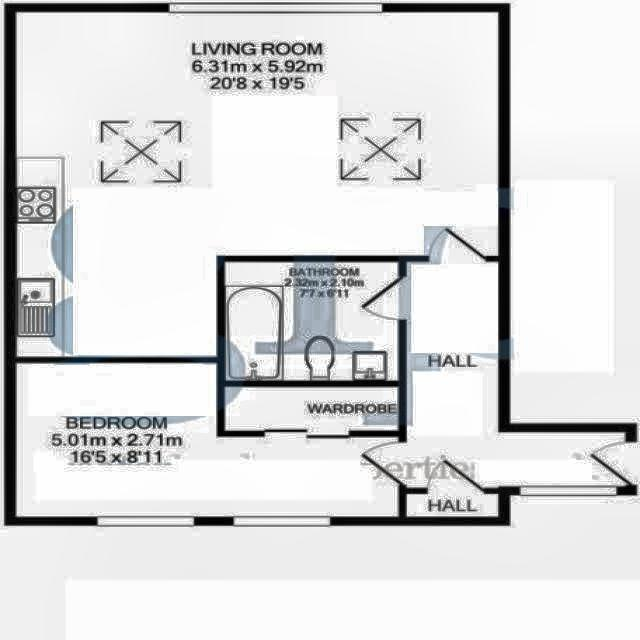room: (13, 12, 500, 356), (18, 363, 398, 516), (406, 262, 624, 487), (226, 262, 399, 380), (224, 387, 398, 430), (407, 494, 498, 516)
